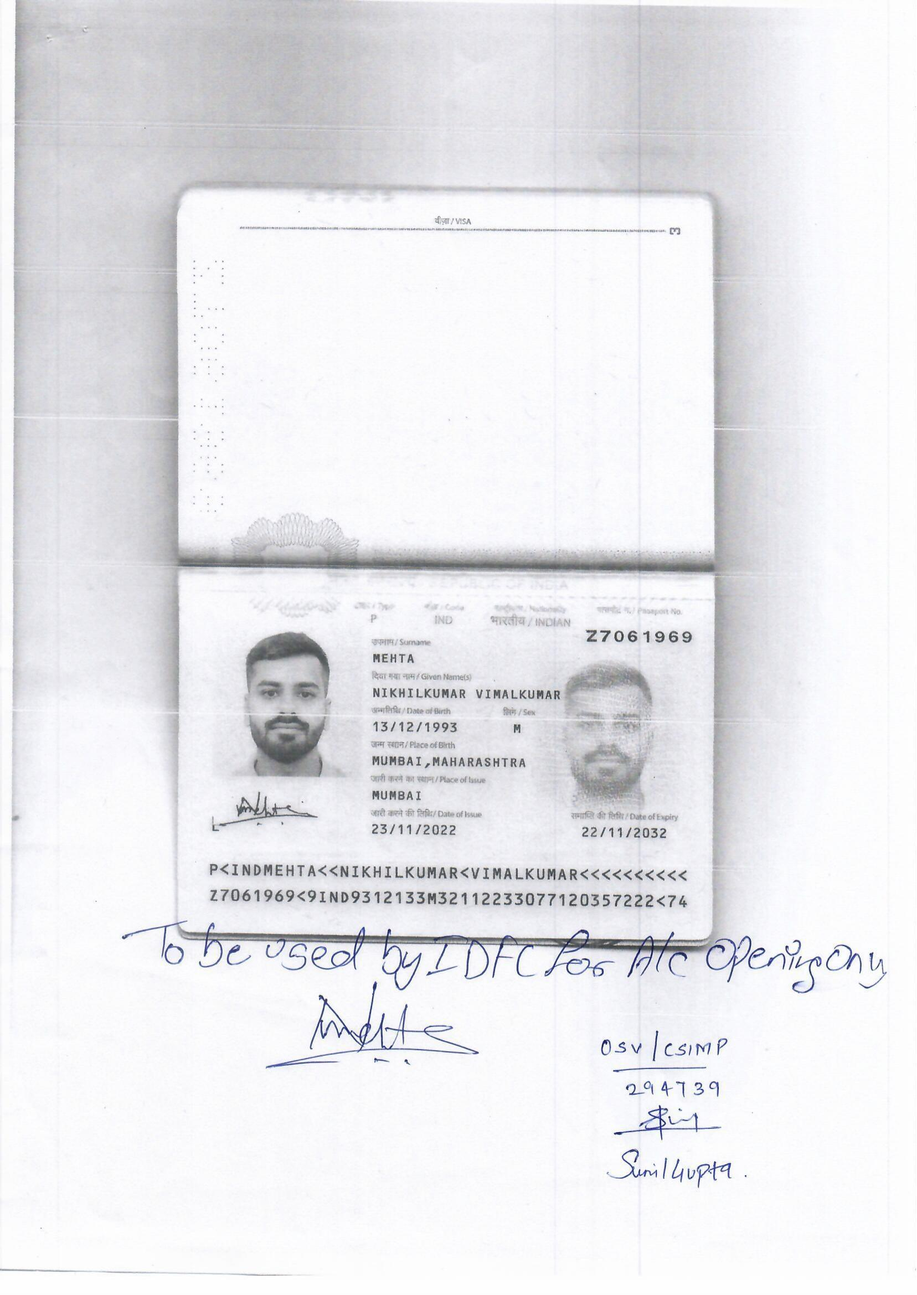DOB: (360, 713, 466, 741)
Surname: (364, 648, 420, 668)
country_code: (428, 611, 455, 627)
date_of_expiry: (565, 819, 681, 844)
date_of_issue: (365, 818, 461, 845)
details: (194, 856, 692, 915)
name: (368, 685, 563, 705)
nationality: (484, 612, 576, 632)
passport_no: (574, 621, 696, 648)
photo: (223, 634, 349, 774)
place_of_birth: (362, 747, 522, 776)
place_of_issue: (366, 782, 437, 805)
sex: (498, 715, 536, 744)
sign: (222, 787, 334, 833)
type: (360, 611, 394, 633)
